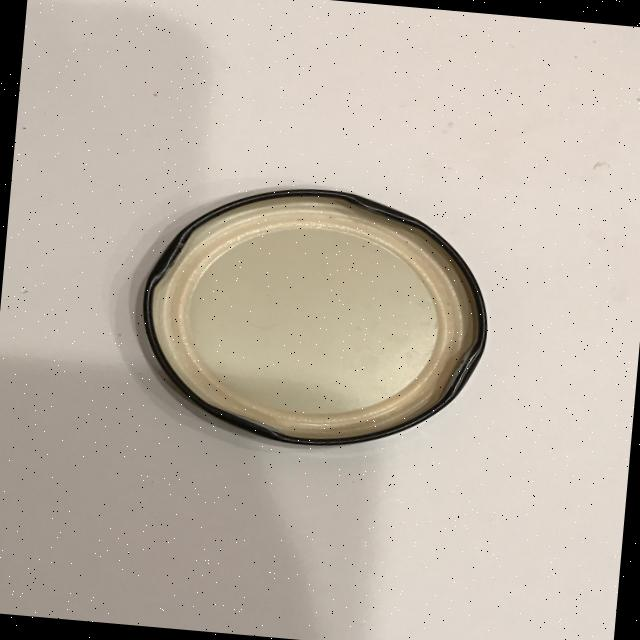metal: (130, 172, 499, 460)
